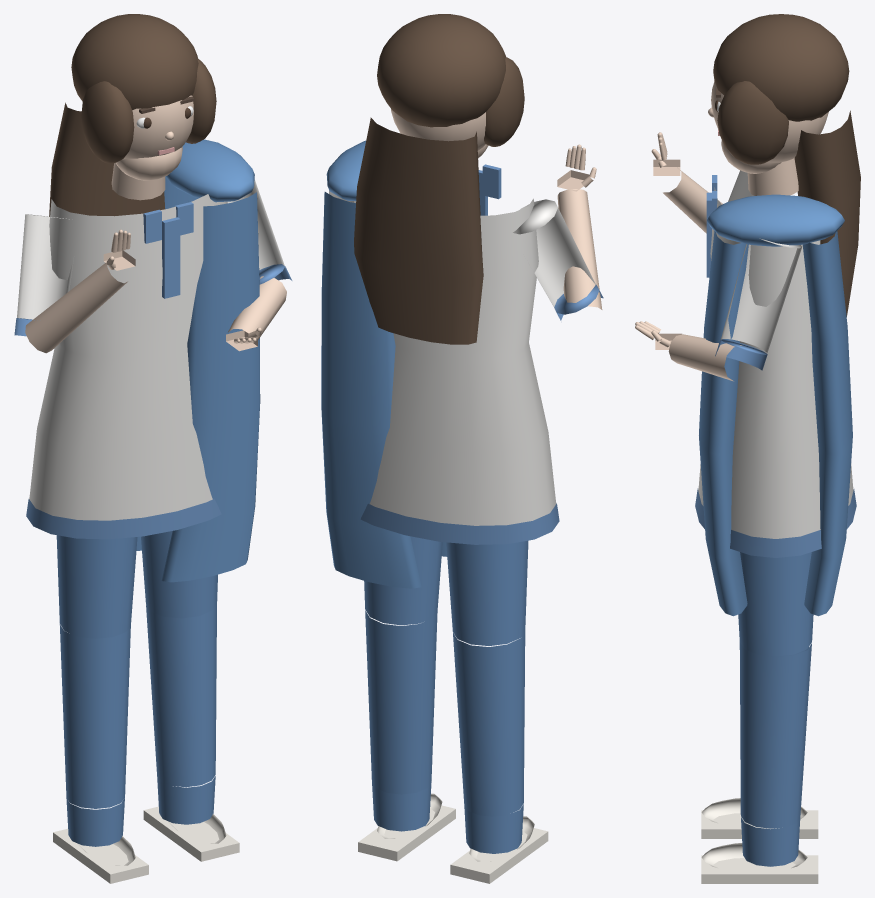
File: adiuva_avatar_female.glb
The picture shows the model from 3 angles, left to right: view 1: azimuth 30°, elevation 25°; view 2: azimuth 150°, elevation 25°; view 3: azimuth 270°, elevation 25°; orthographic projection.
Visible parts, largest first — view 1: AvatarNode; view 2: AvatarNode; view 3: AvatarNode.
Part boxes in pixels (x1=…): AvatarNode: x1=14, y1=14, x2=292, y2=883; AvatarNode: x1=321, y1=14, x2=603, y2=883; AvatarNode: x1=635, y1=14, x2=860, y2=883.
Size of the model in its own units: 0.5996 by 1.73 by 0.425.
